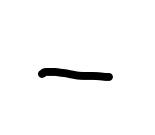minus: (38, 64, 113, 85)
